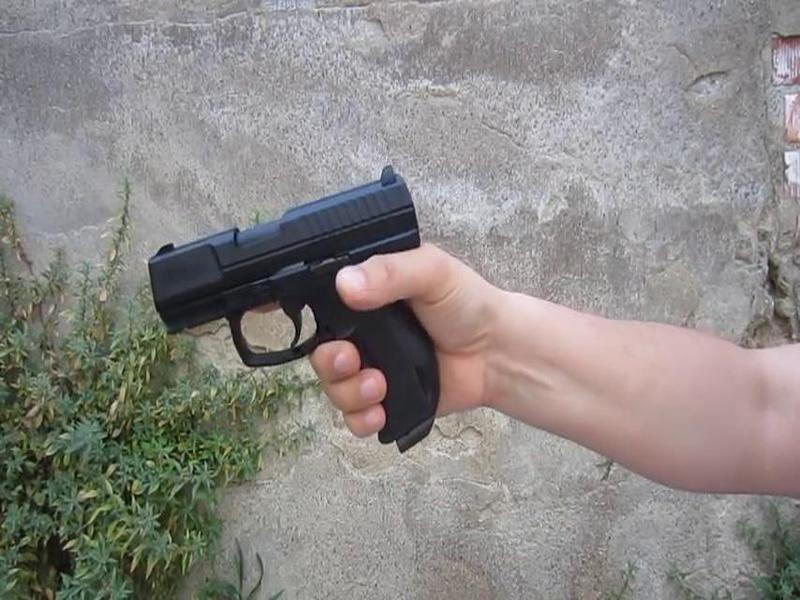Pistola: (145, 149, 498, 467)
